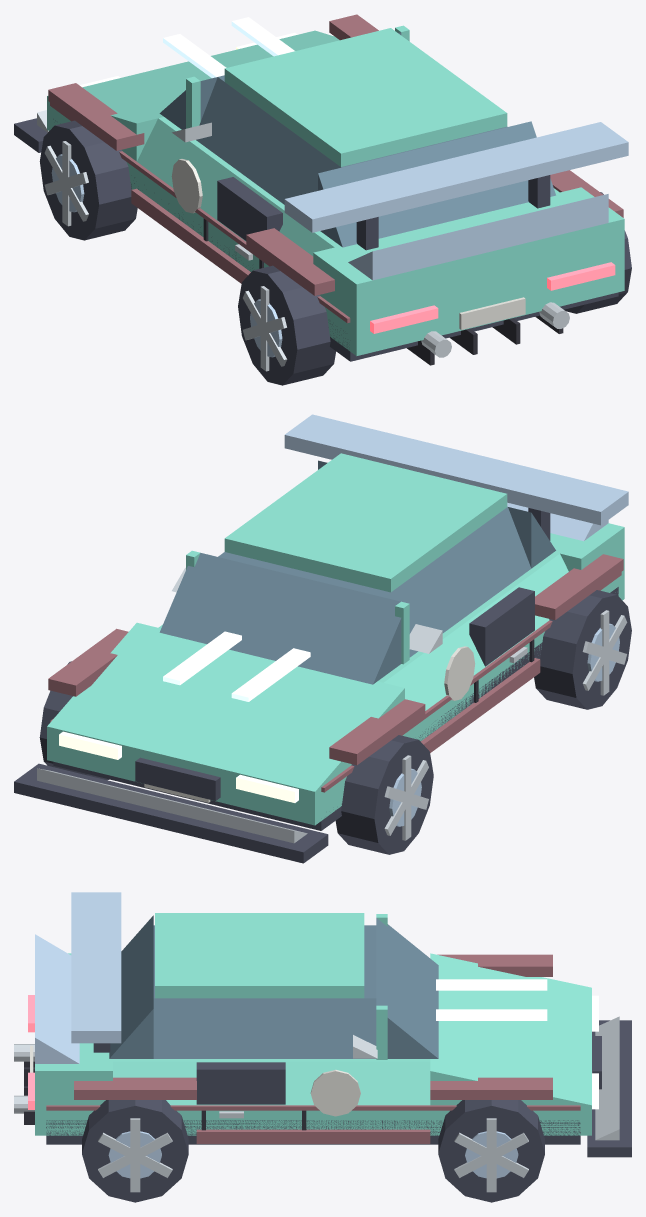
The model's file is turbo_talon.glb.
3 views of the same model, one above another, from view 1: azimuth 30°, elevation 25°; view 2: azimuth 150°, elevation 25°; view 3: azimuth 270°, elevation 25° (orthographic). The views are drawn at different scales.
Parts seen in each view (by area): view 1: Roof.284, Tail.084, RearWing.047, Body.284, CabinSideL.081, RearWindow.184, Ducktail.062, Wheel_RL.244, Wheel_FL.244, Nose.081, ShoulderL.081, Arch-1False.160 (+29 smaller); view 2: Nose.081, Roof.284, Windshield.184, RearWing.047, CabinSideL.081, Body.284, Splitter.051, Wheel_FL.244, Wheel_RL.244, ShoulderL.081, Bumper.280, AirIntake-1.047 (+23 smaller); view 3: Roof.284, Nose.081, CabinSideR.081, Body.284, RearWing.047, ShoulderR.081, Windshield.184, Wheel_RR.244, Wheel_FR.244, Ducktail.062, RearWindow.184, AirIntake1.047 (+24 smaller).
Part boxes in pixels (x1,y1,x2,y2): Roof.284: (224, 28, 507, 166); Tail.084: (313, 187, 624, 322); RearWing.047: (284, 122, 628, 232); Body.284: (47, 96, 624, 356); CabinSideL.081: (196, 77, 340, 204); RearWindow.184: (318, 121, 555, 247); Ducktail.062: (348, 194, 608, 280); Wheel_RL.244: (238, 265, 335, 385); Wheel_FL.244: (39, 120, 137, 240); Nose.081: (47, 30, 339, 161); ShoulderL.081: (137, 118, 334, 256); Arch-1False.160: (48, 83, 144, 150); Nose.081: (47, 622, 404, 791); Roof.284: (224, 453, 507, 592); Windshield.184: (159, 553, 401, 684); RearWing.047: (284, 414, 628, 525); CabinSideL.081: (384, 507, 531, 657); Body.284: (47, 565, 624, 825); Splitter.051: (14, 763, 328, 863); Wheel_FL.244: (335, 735, 433, 854); Wheel_RL.244: (534, 590, 631, 709); ShoulderL.081: (384, 554, 568, 710); Bumper.280: (37, 768, 307, 843); AirIntake-1.047: (469, 587, 534, 666); Roof.284: (155, 913, 364, 998); Nose.081: (430, 953, 591, 1105); CabinSideR.081: (153, 998, 376, 1058); Body.284: (35, 1105, 591, 1135); RearWing.047: (71, 892, 121, 1043); ShoulderR.081: (113, 1061, 430, 1105); Windshield.184: (376, 918, 438, 1058); Wheel_RR.244: (82, 1100, 188, 1202); Wheel_FR.244: (438, 1100, 544, 1202); Ducktail.062: (35, 934, 79, 1063); RearWindow.184: (109, 915, 153, 1058); AirIntake1.047: (196, 1062, 285, 1104).
Bounding box in the file's own units: 3.2 × 1.78 × 5.55.
